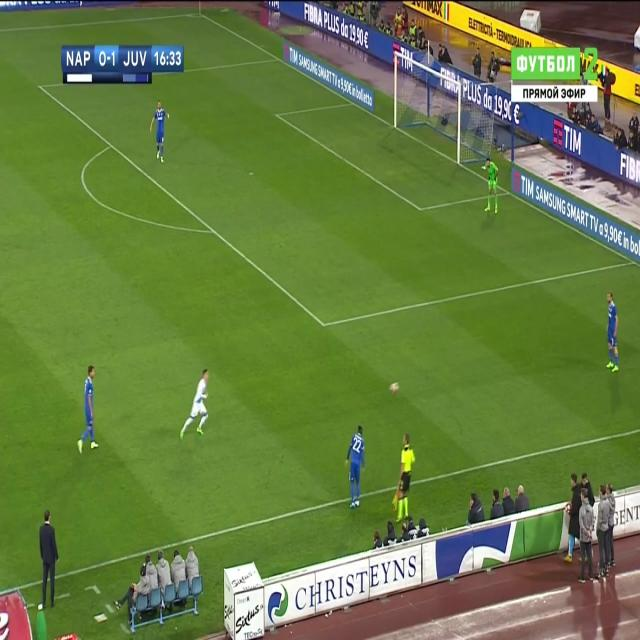Ball: (387, 374, 401, 401)
Goalkeeper: (392, 431, 416, 525), (482, 156, 502, 216)
Player: (179, 367, 212, 445), (344, 422, 366, 513), (78, 366, 100, 454), (604, 288, 622, 376), (148, 99, 170, 166)
